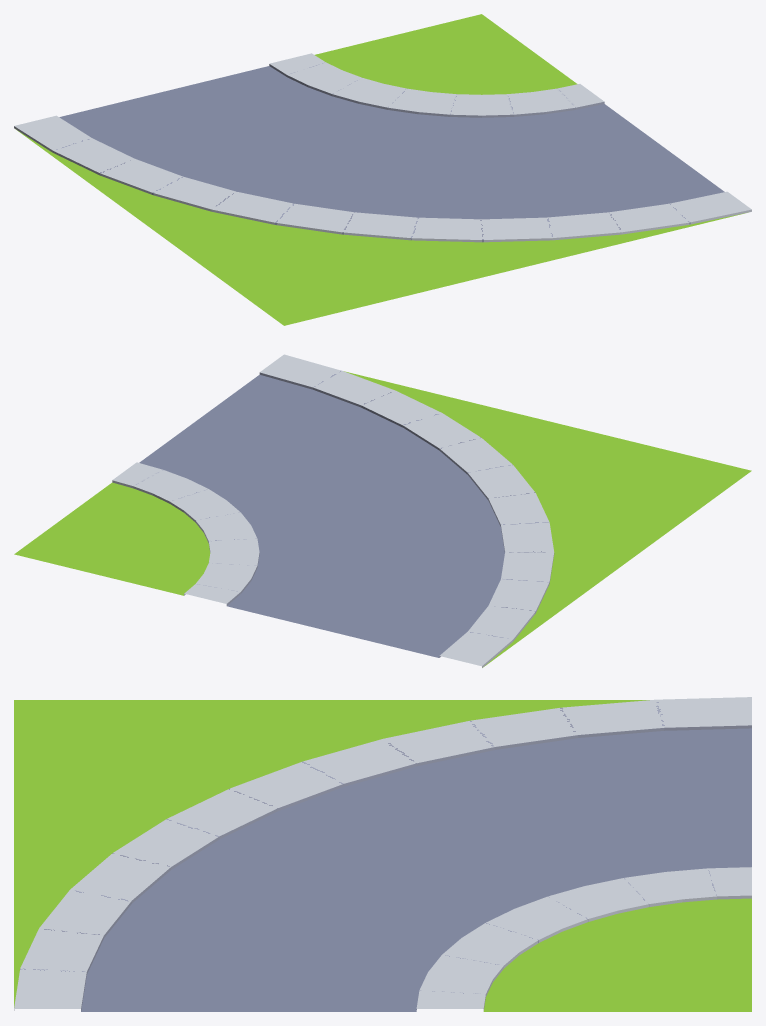
File: street_curved.glb
The picture shows the model from 3 angles, top to bottom: view 1: azimuth 30°, elevation 25°; view 2: azimuth 150°, elevation 25°; view 3: azimuth 270°, elevation 25°; orthographic projection. The views are drawn at different scales.
Visible parts, largest first — view 1: Street, Grass, Sidewalk, Sidewalk.001; view 2: Street, Grass, Sidewalk, Sidewalk.001; view 3: Street, Grass, Sidewalk, Sidewalk.001.
Boxes of the visible parts, x1,y1,x2,y2 form: Street: (59,66,724,219); Grass: (15,14,747,325); Sidewalk: (14,115,751,242); Sidewalk.001: (269,53,604,117); Street: (139,374,504,657); Grass: (14,371,751,667); Sidewalk: (259,354,554,667); Sidewalk.001: (112,462,259,605); Street: (81,728,751,1011); Grass: (14,700,751,1011); Sidewalk: (14,697,751,1010); Sidewalk.001: (416,867,751,1010).
Size of the model in its own units: 22 by 0.1 by 22.
1 material, 1 textured.
